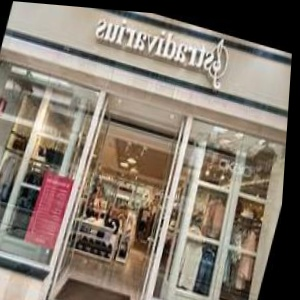stradivarius: (184, 16, 285, 28)
